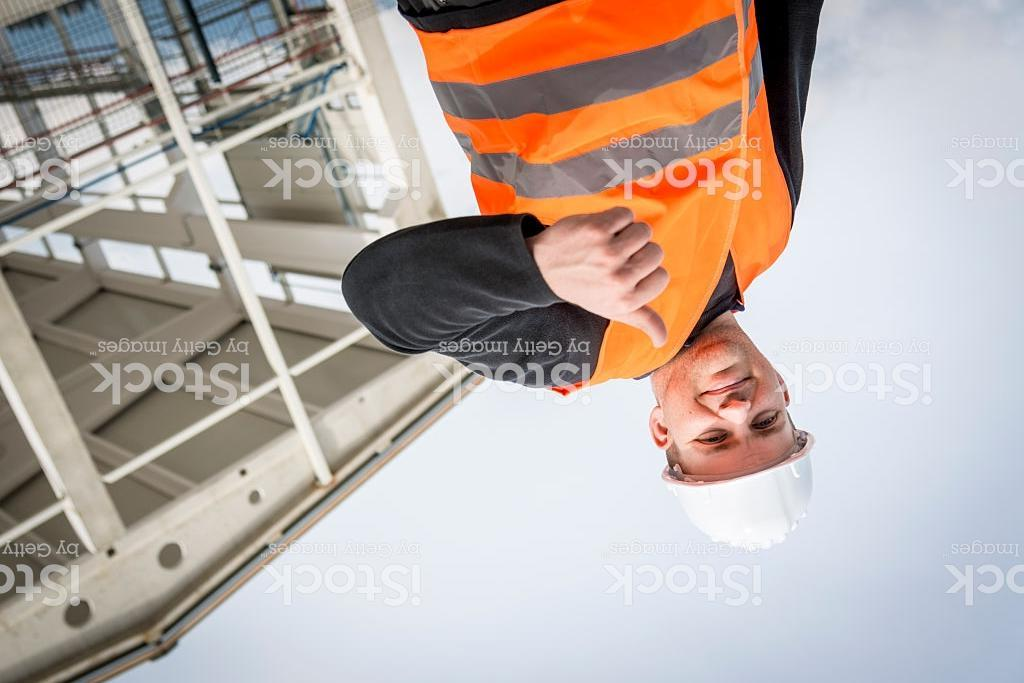thumbsdown: (575, 205, 671, 350)
